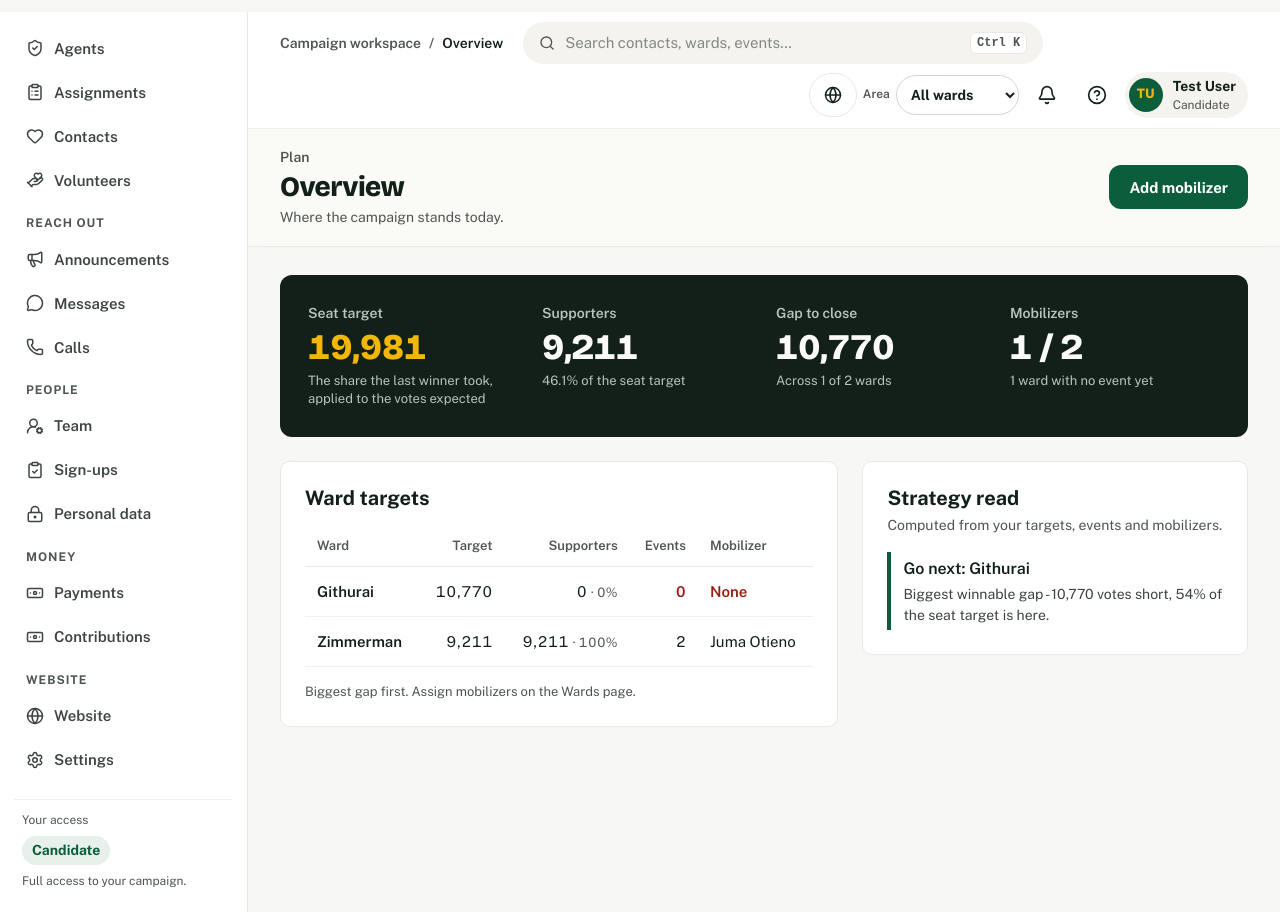
payments › shows the candidate the register without any way to change it
This screenshot has width=1280, height=912.
(page scrolled)
Click the link "Payments". click: (75, 593)
box: [26,584,124,602]
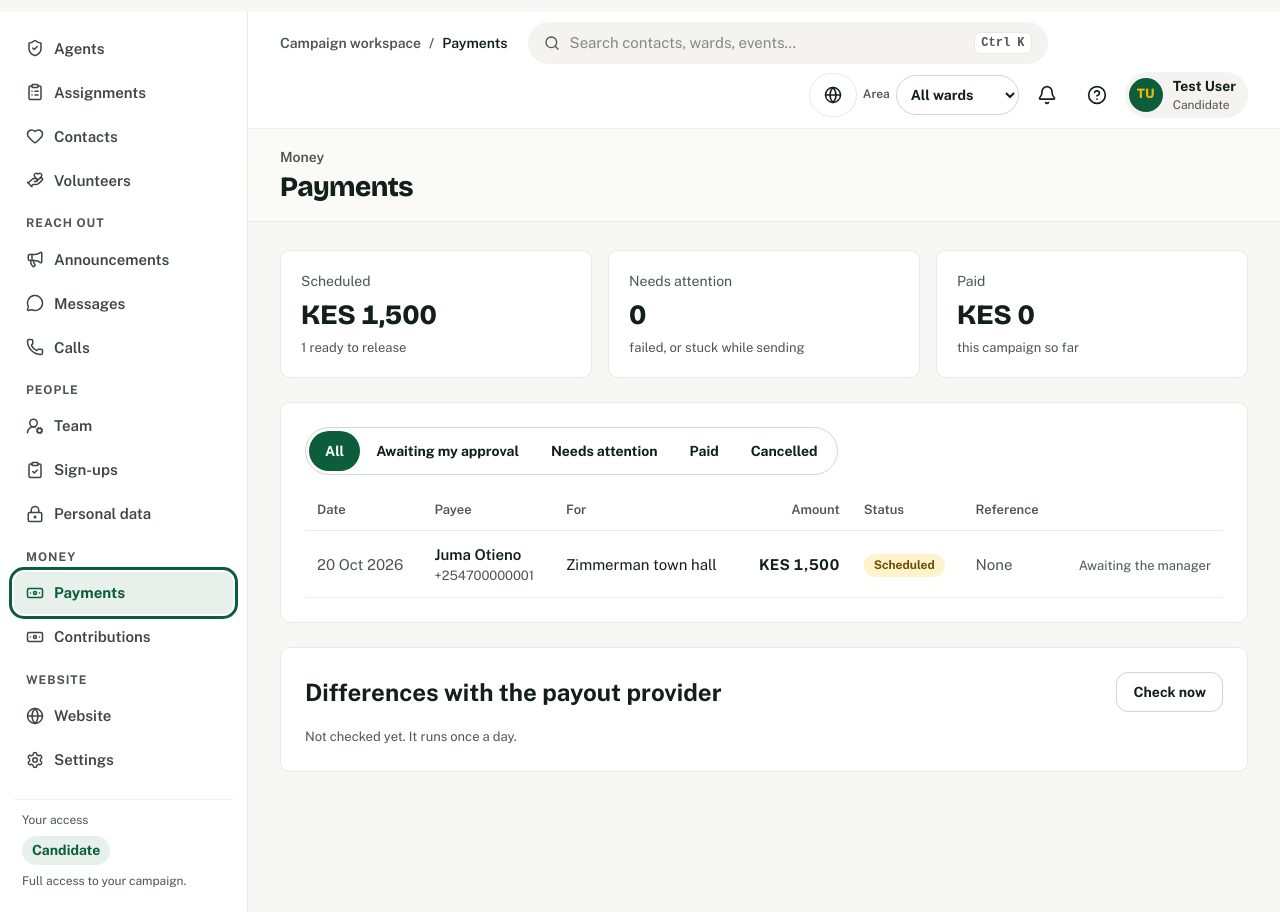
Expected: the text "Juma Otieno" is shown, [434,546,521,563]
Now the text "KES 1,500" is shown, box [740,531,852,598]
